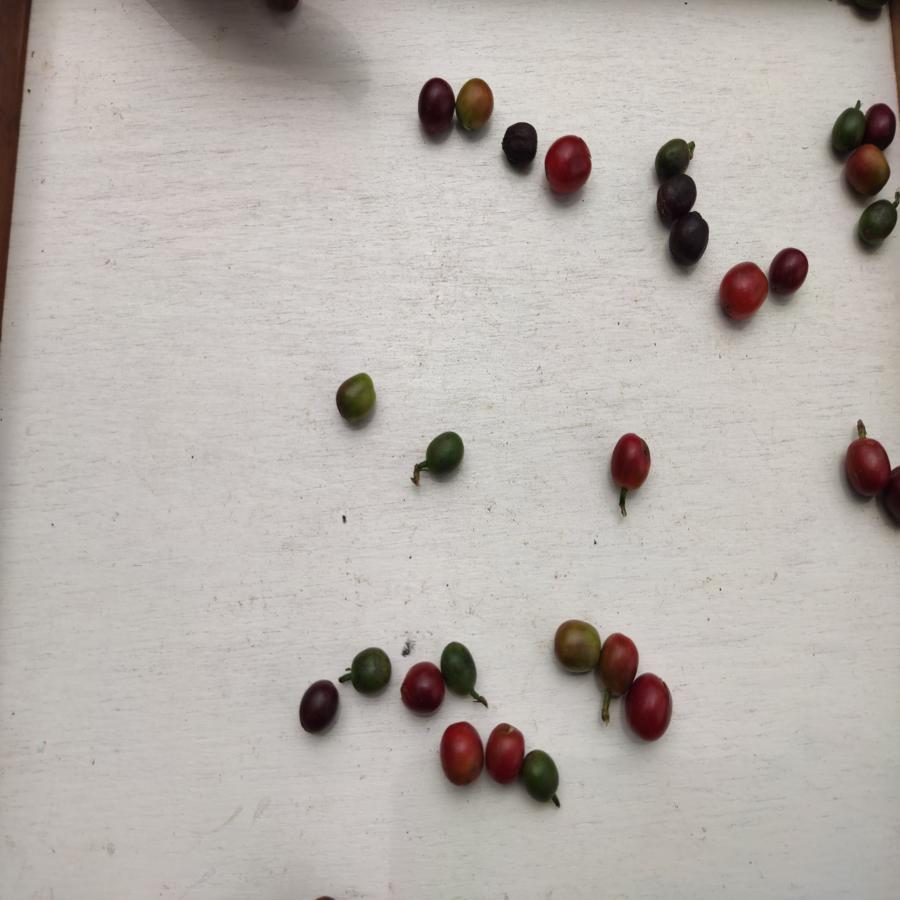Inmaduro: (343, 646, 397, 696), (418, 429, 467, 478), (522, 748, 561, 803), (441, 641, 478, 697), (858, 196, 896, 249), (826, 104, 867, 150), (648, 137, 694, 174)
Maduro: (840, 434, 893, 503), (630, 674, 675, 747), (439, 720, 484, 790), (544, 133, 593, 197), (717, 261, 770, 319), (606, 432, 652, 490), (485, 723, 524, 782)
Pinton: (554, 618, 602, 679), (328, 370, 381, 425), (840, 147, 893, 197), (598, 633, 636, 700), (458, 77, 494, 134)
Sobremaduro: (398, 661, 444, 717), (415, 74, 456, 136), (667, 211, 713, 266), (295, 681, 341, 733), (769, 244, 809, 297), (657, 172, 699, 221), (500, 122, 538, 169), (865, 97, 895, 150)
